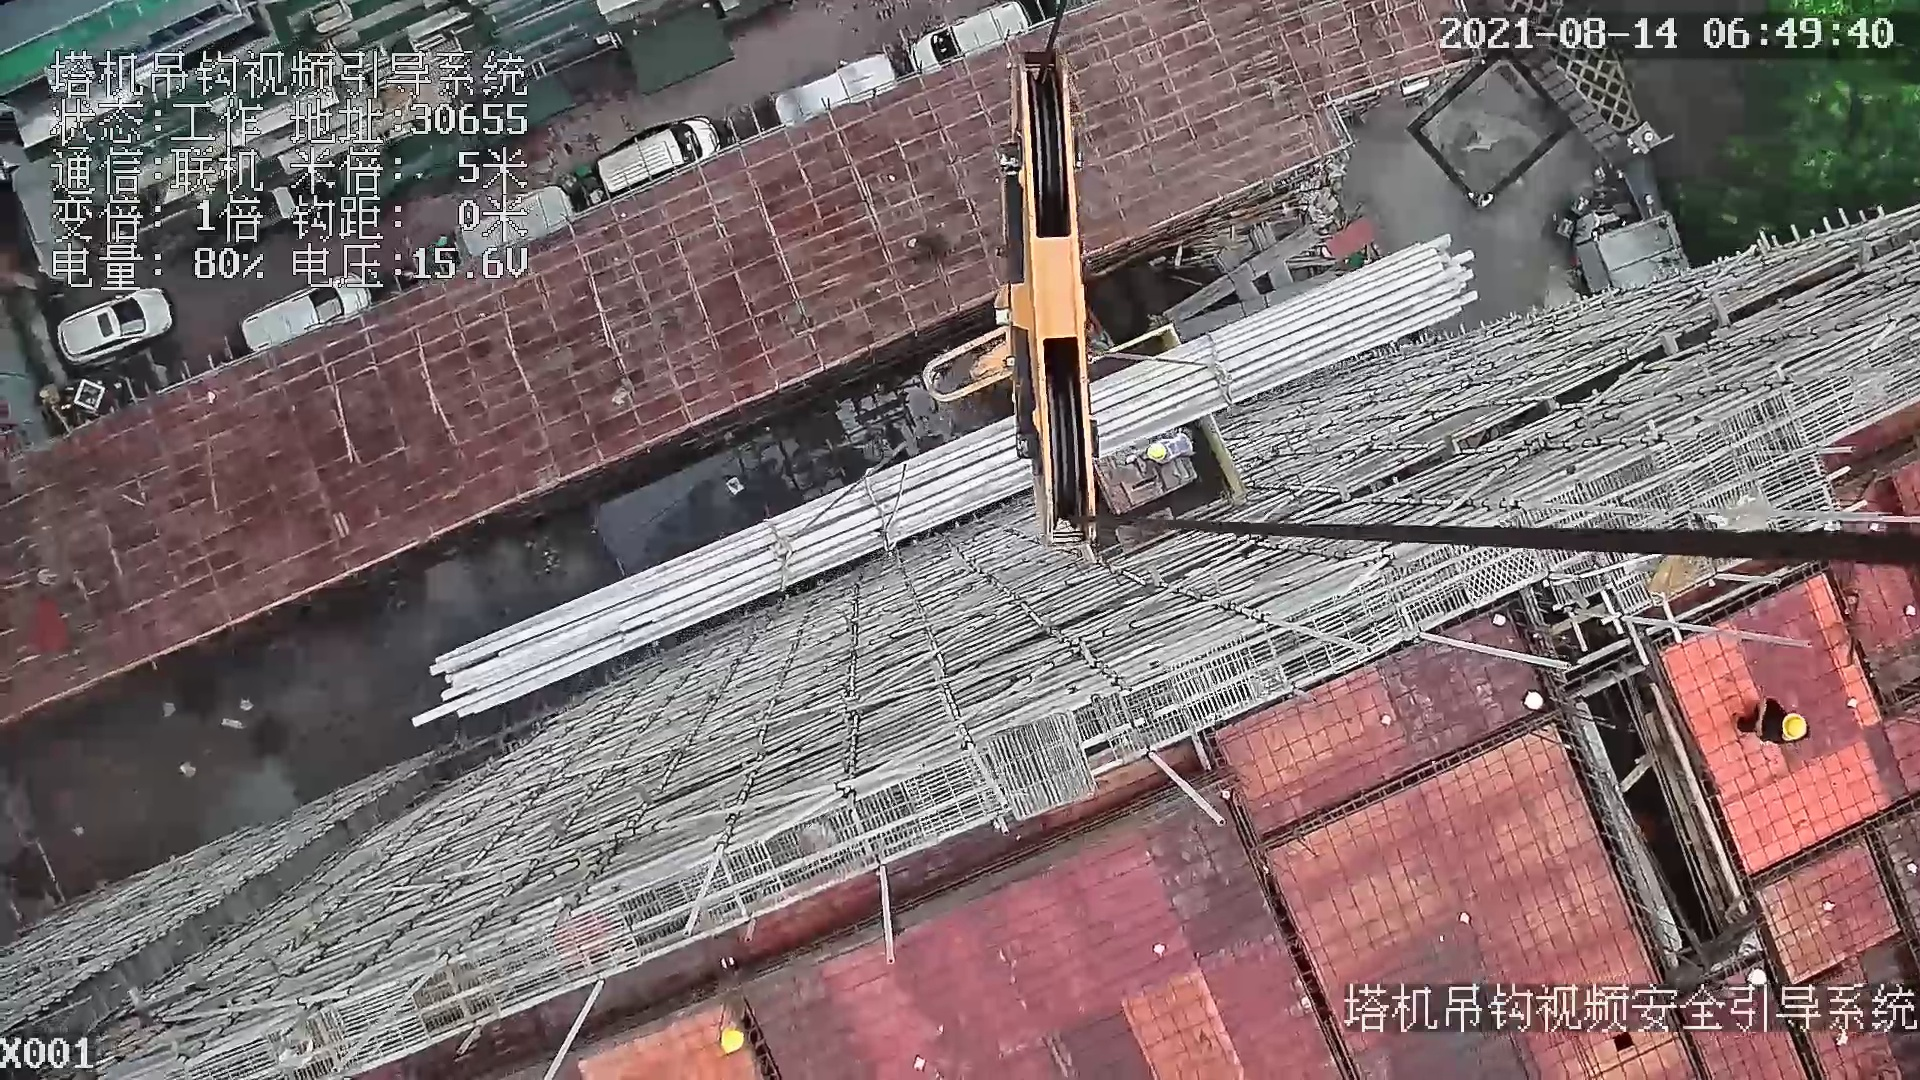helmet: (1772, 703, 1814, 743), (1148, 436, 1175, 471)
hook: (923, 44, 1103, 545)
person: (1735, 690, 1809, 751), (1142, 433, 1201, 465)
